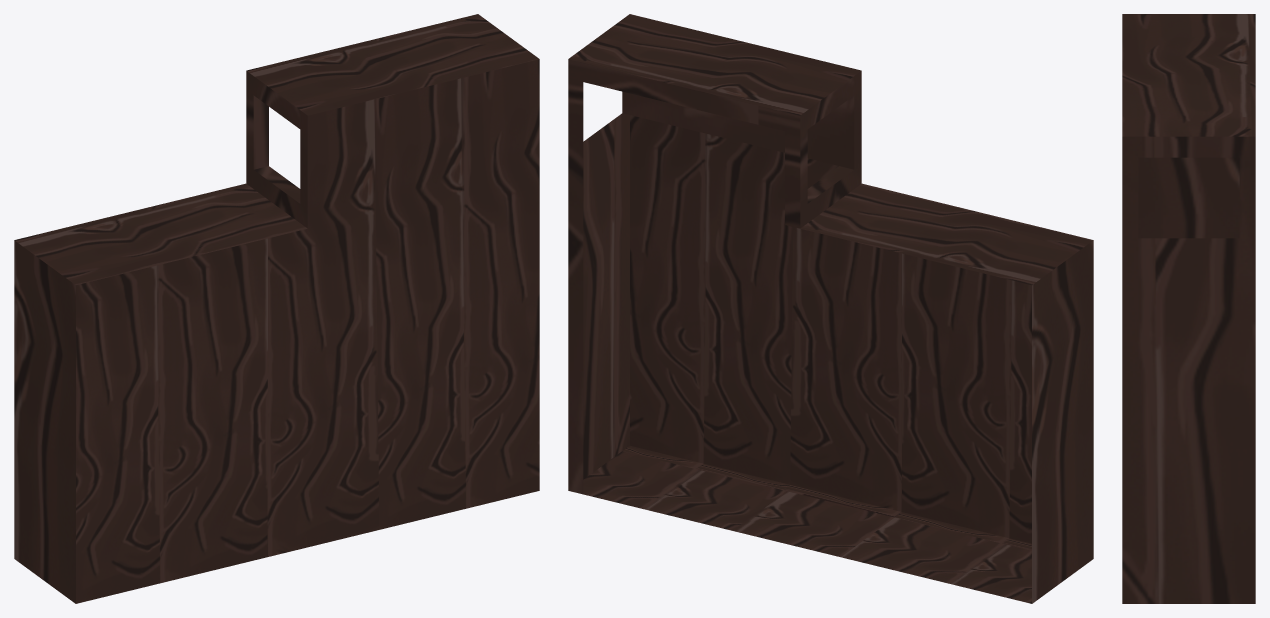
The model's file is amazoncafe-ESTANTE-TRASEIRA.gltf.
3 renders of one model, left to right at view 1: azimuth 30°, elevation 25°; view 2: azimuth 150°, elevation 25°; view 3: azimuth 270°, elevation 25°, orthographic. The views are drawn at different scales.
Visible parts, largest first — view 1: Cube; view 2: Cube; view 3: Cube.
Part boxes in pixels (x1,y1,x2,y2): Cube: [14, 14, 539, 603]; Cube: [568, 14, 1093, 603]; Cube: [1122, 14, 1255, 603].
Size of the model in its own units: 2.53 by 2.25 by 0.5833.
1 material, 1 textured.
